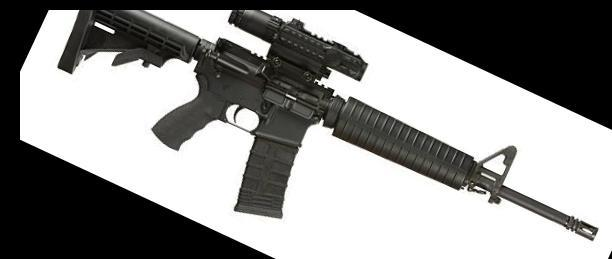larga: (57, 11, 599, 242)
